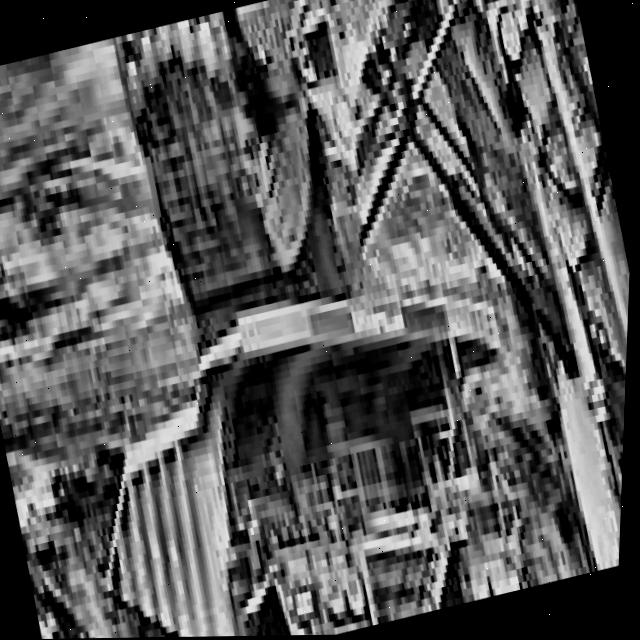dump_truck: (20, 210, 565, 640)
excavator: (76, 0, 640, 639)
